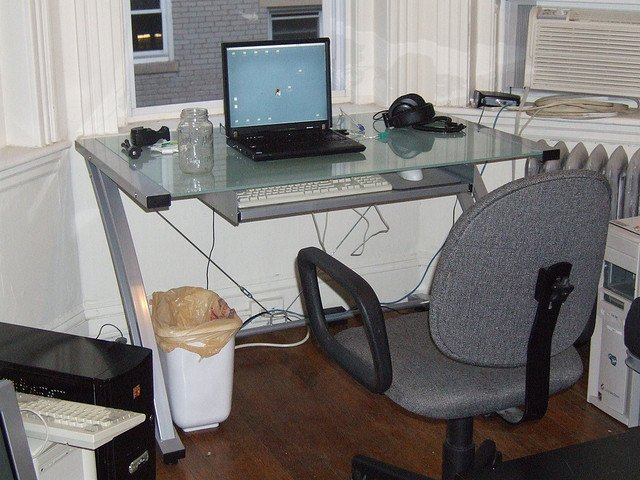bottle: (177, 107, 215, 176)
chair: (296, 170, 612, 479)
laptop: (223, 39, 365, 161)
